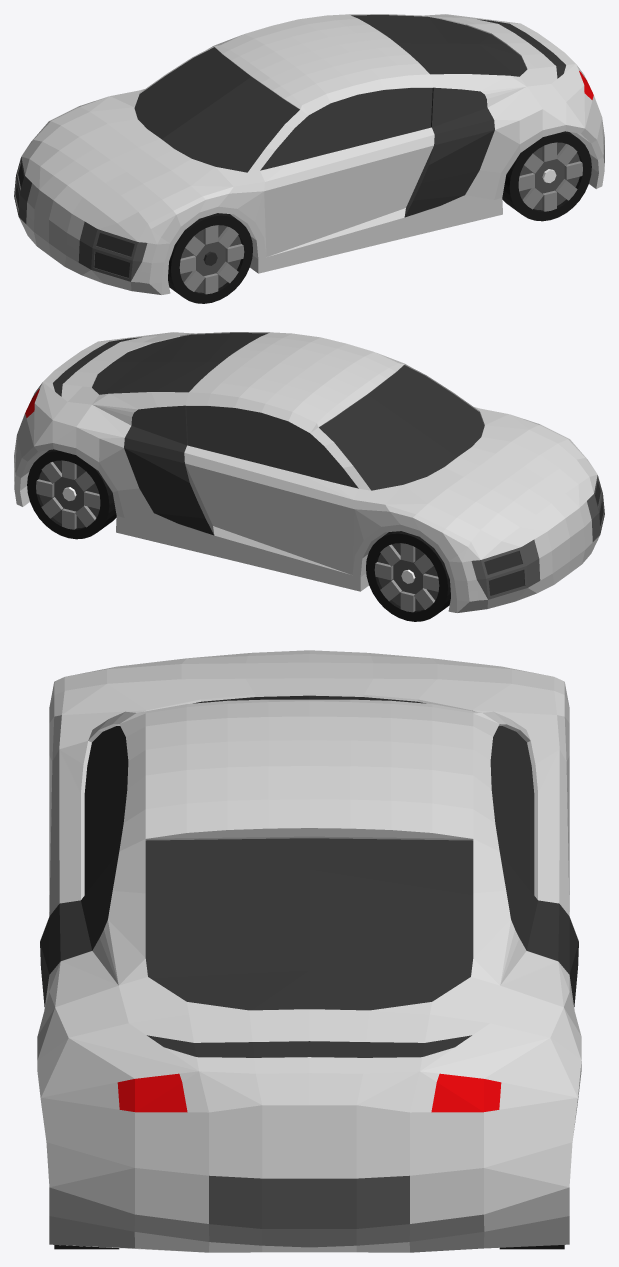
The picture shows the model from 3 angles, top to bottom: view 1: azimuth 30°, elevation 25°; view 2: azimuth 150°, elevation 25°; view 3: azimuth 270°, elevation 25°; orthographic projection. The views are drawn at different scales.
Visible parts, largest first — view 1: Cube_0, Wheel1_3, Wheel1.003_6; view 2: Cube_0, Wheel1.001_4, Wheel1.002_5; view 3: Cube_0.
Part boxes in pixels (<box>): Cube_0: <box>14,14,604,294</box>; Wheel1_3: <box>168,213,252,303</box>; Wheel1.003_6: <box>502,131,591,221</box>; Cube_0: <box>14,332,604,612</box>; Wheel1.001_4: <box>366,531,450,621</box>; Wheel1.002_5: <box>27,449,116,539</box>; Cube_0: <box>37,650,581,1252</box>.
Size of the model in its own units: 4.44 by 1.34 by 2.
